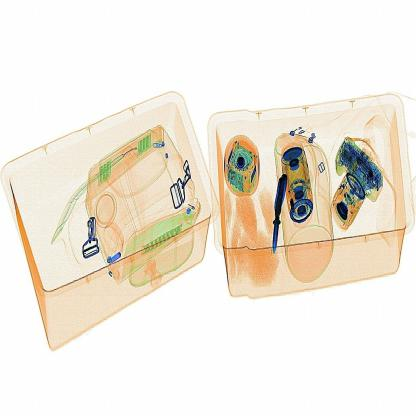gun: (266, 166, 293, 267)
